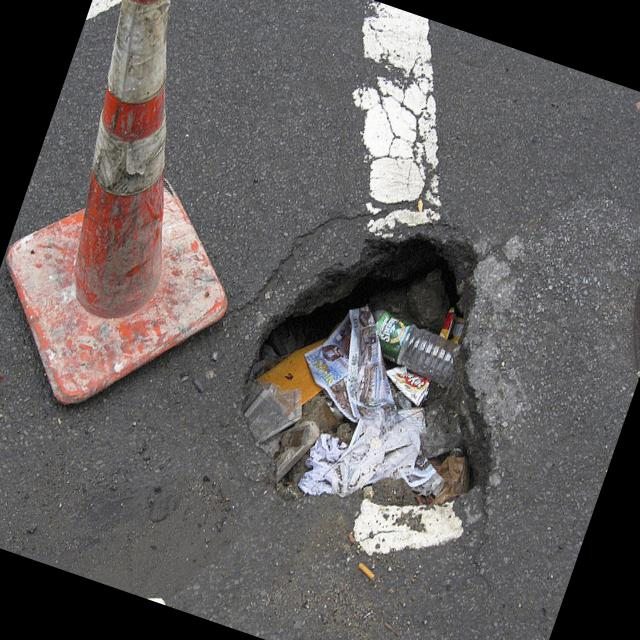Potholes: (178, 178, 586, 609)
